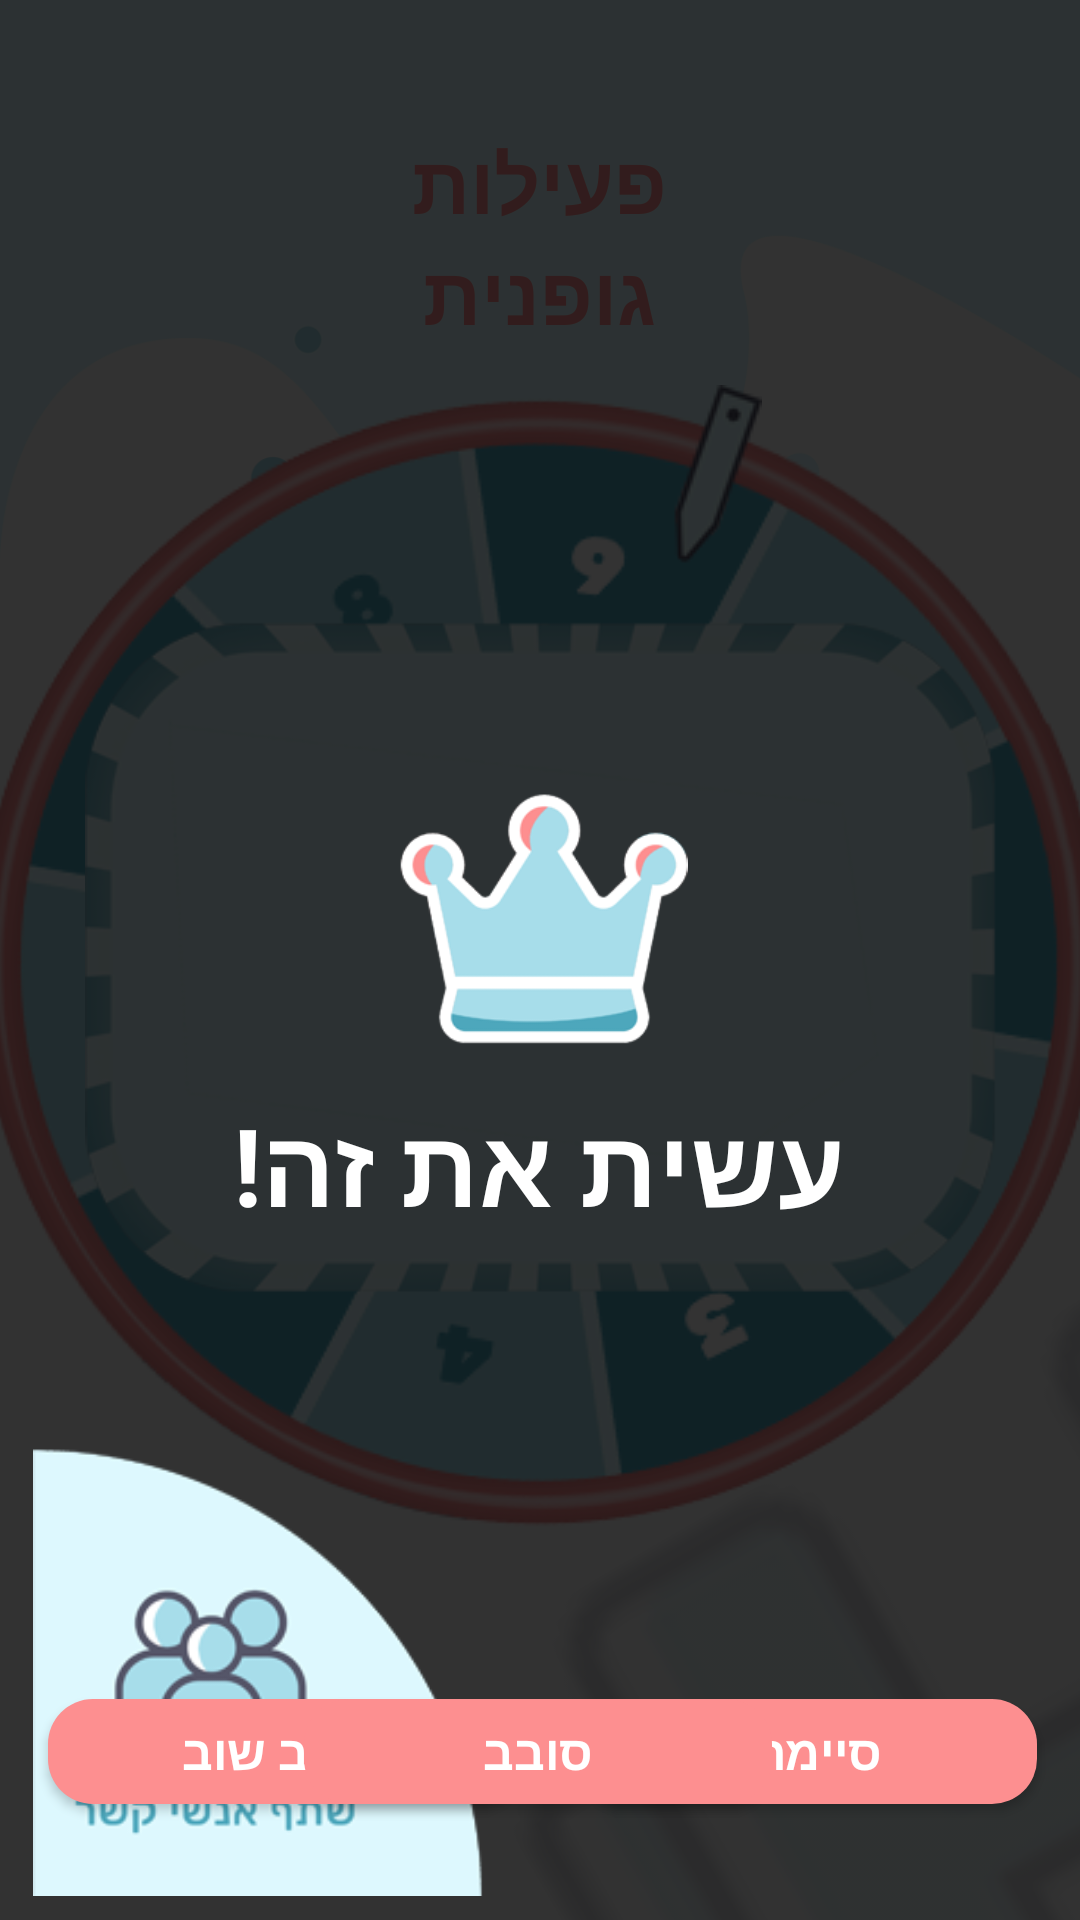

Where icons sit on this 1080w x 1920h app screen, as {"x1": x1, "y1": y1, "x2": x2, "y2": y2}:
crown: {"x1": 400, "y1": 794, "x2": 688, "y2": 1044}
